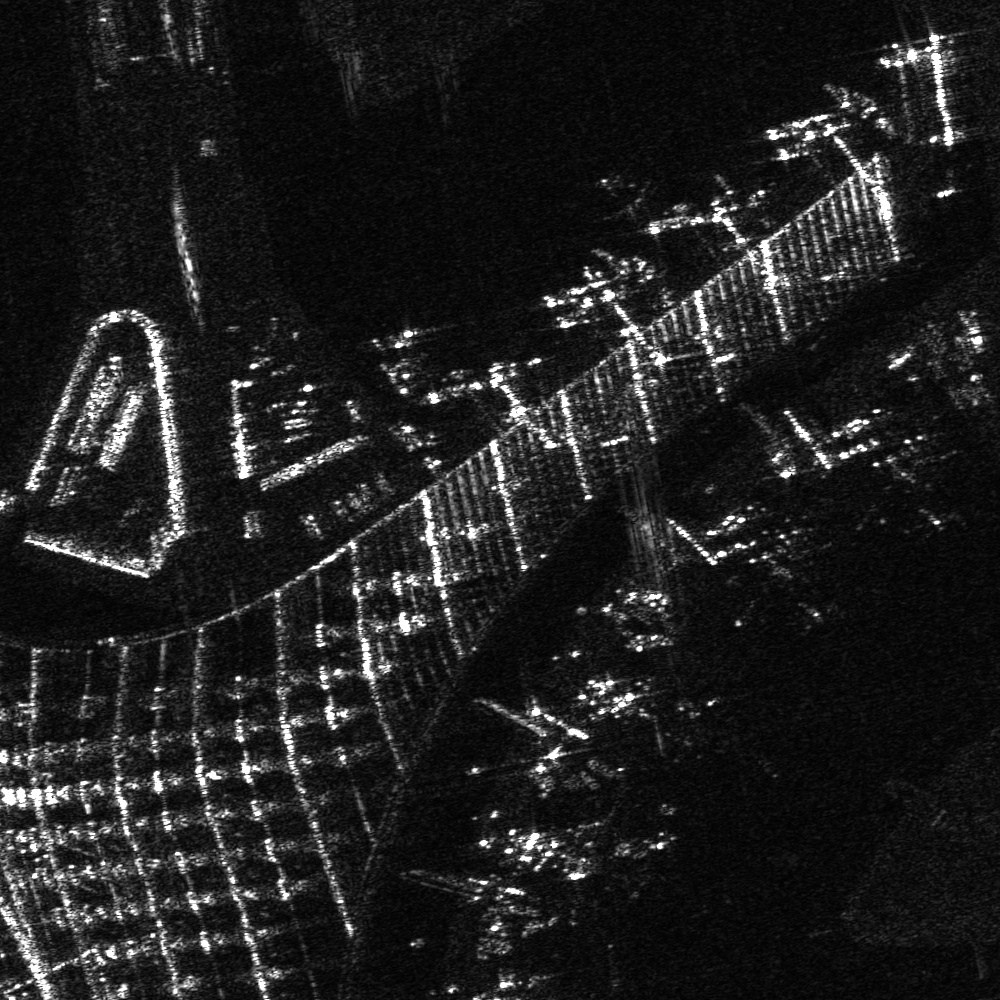Boeing787: (734, 533, 843, 625), (592, 173, 652, 224)
other: (857, 438, 965, 535)
